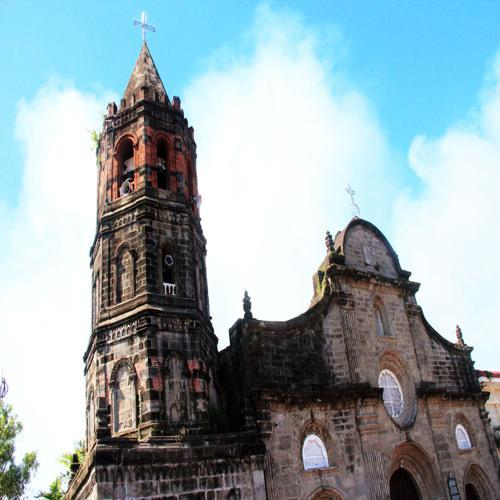Barasoain Church: (60, 3, 500, 500)
